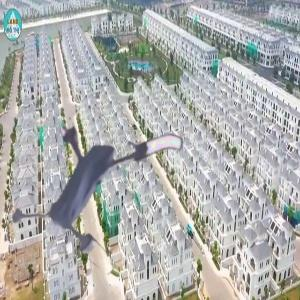drone: (14, 109, 177, 272)
